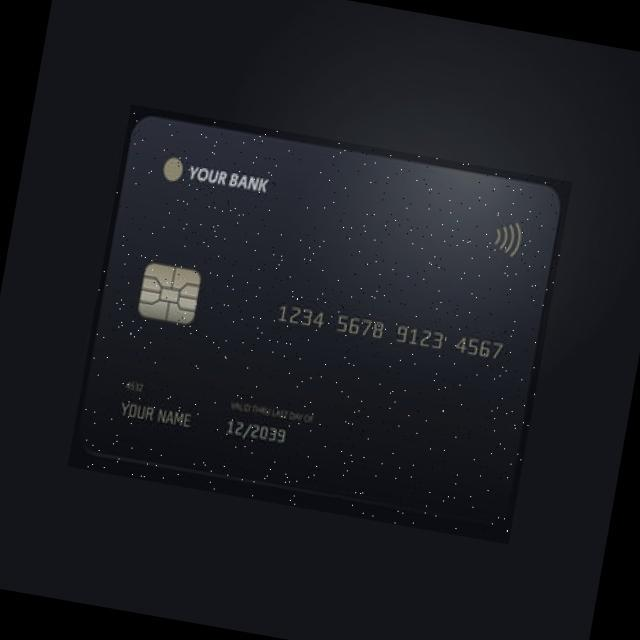payment_card: (66, 105, 571, 544)
